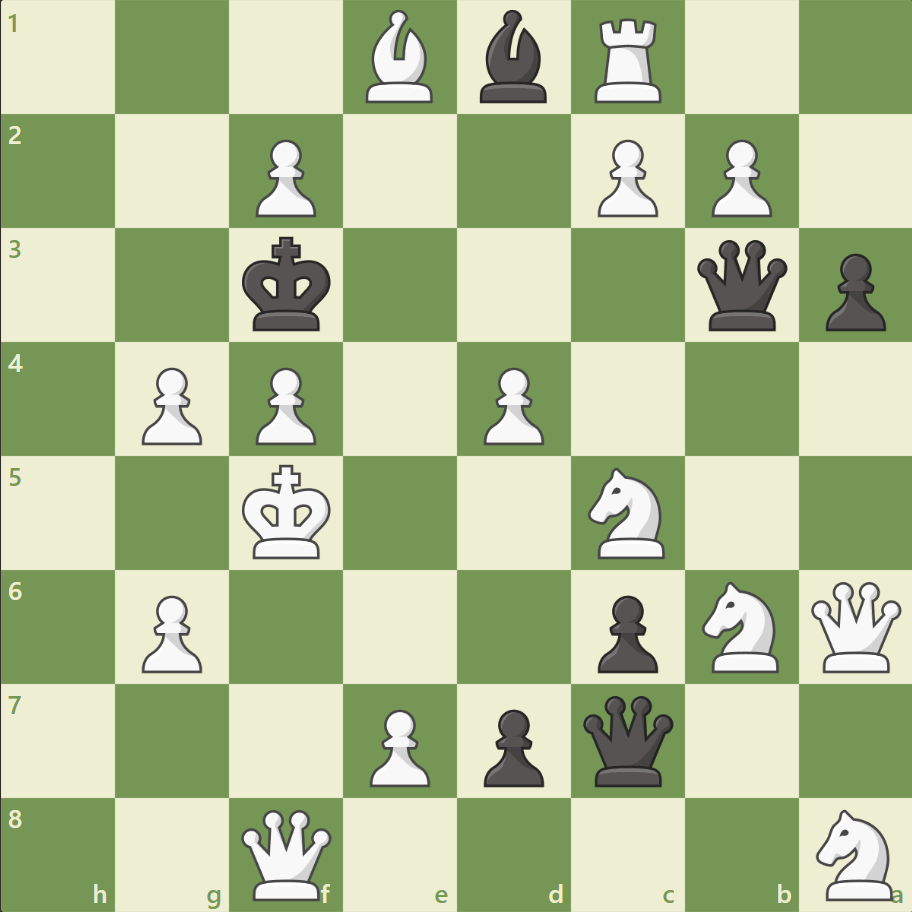B: (358, 6, 442, 109)
K: (238, 458, 338, 566)
N: (579, 461, 676, 564), (806, 802, 903, 904), (692, 575, 789, 677)
P: (133, 586, 208, 677), (474, 359, 549, 450), (247, 359, 322, 450), (133, 359, 208, 450), (701, 132, 776, 223), (247, 132, 322, 223), (361, 700, 435, 791), (588, 132, 662, 223)
Q: (805, 576, 904, 676), (237, 804, 336, 903)
R: (587, 12, 670, 109)
b: (471, 6, 555, 109)
k: (238, 231, 338, 339)
p: (474, 700, 549, 791), (588, 586, 662, 677), (815, 246, 889, 337)
q: (578, 690, 677, 789), (691, 236, 790, 335)
